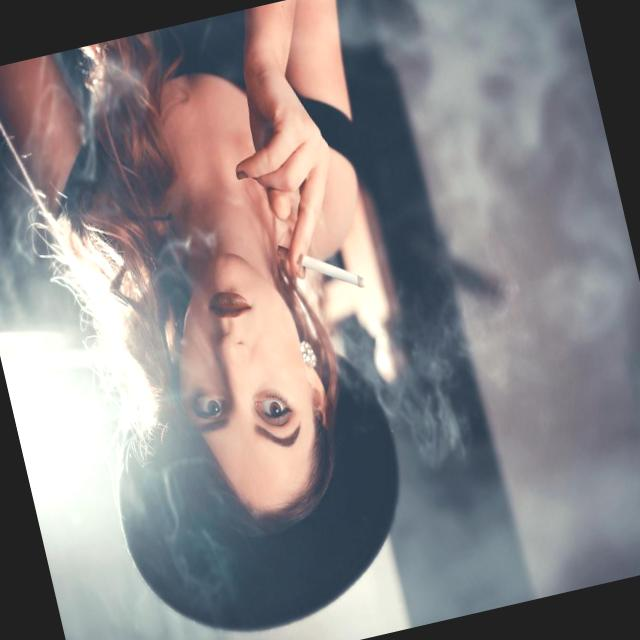cigarette: (284, 224, 390, 316)
